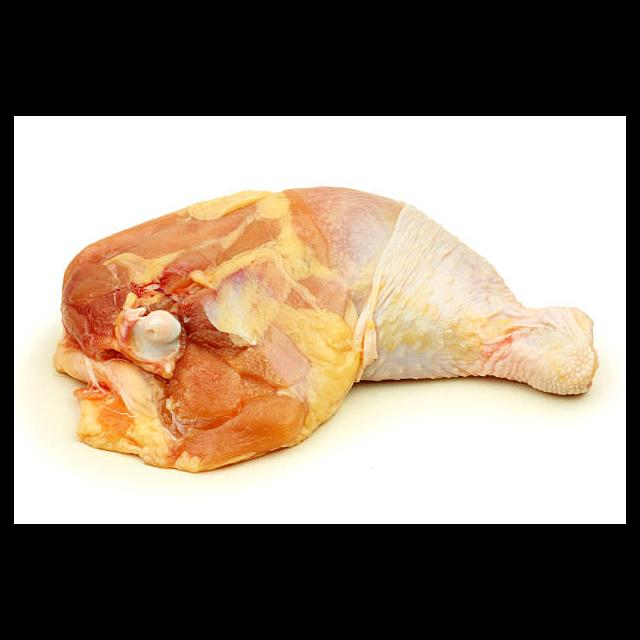chicken: (52, 182, 602, 475)
